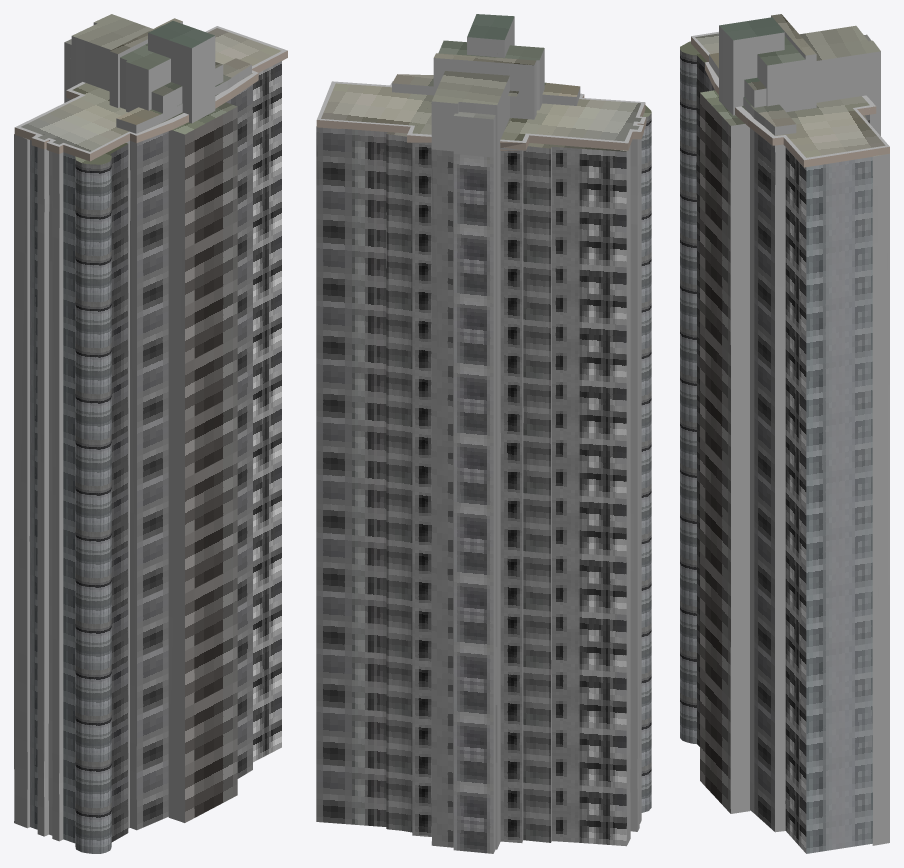
File: HPDPKZ_madanglu588nong6hao.dae
The picture shows the model from 3 angles, left to right: view 1: azimuth 30°, elevation 25°; view 2: azimuth 150°, elevation 25°; view 3: azimuth 270°, elevation 25°; orthographic projection.
Visible parts, largest first — view 1: HPDPKZ_madanglu588nong6hao_louding, HPDPKZ_madanglu588nong6hao_1F_101, HPDPKZ_madanglu588nong6hao_12F_1201, HPDPKZ_madanglu588nong6hao_2F_201, HPDPKZ_madanglu588nong6hao_5F_501, HPDPKZ_madanglu588nong6hao_20F_2001, HPDPKZ_madanglu588nong6hao_23F_2301, HPDPKZ_madanglu588nong6hao_6F_601, HPDPKZ_madanglu588nong6hao_9F_901, HPDPKZ_madanglu588nong6hao_21F_2101, HPDPKZ_madanglu588nong6hao_8F_801, HPDPKZ_madanglu588nong6hao_17F_1701 (+61 smaller); view 2: HPDPKZ_madanglu588nong6hao_louding, HPDPKZ_madanglu588nong6hao_26F_2601, HPDPKZ_madanglu588nong6hao_1F_101, HPDPKZ_madanglu588nong6hao_15F_1501, HPDPKZ_madanglu588nong6hao_25F_2501, HPDPKZ_madanglu588nong6hao_12F_1201, HPDPKZ_madanglu588nong6hao_13F_1301, HPDPKZ_madanglu588nong6hao_2F_201, HPDPKZ_madanglu588nong6hao_11F_1101, HPDPKZ_madanglu588nong6hao_6F_601, HPDPKZ_madanglu588nong6hao_9F_901, HPDPKZ_madanglu588nong6hao_10F_1001 (+61 smaller); view 3: HPDPKZ_madanglu588nong6hao_louding, HPDPKZ_madanglu588nong6hao_6F_603, HPDPKZ_madanglu588nong6hao_12F_1203, HPDPKZ_madanglu588nong6hao_16F_1603, HPDPKZ_madanglu588nong6hao_19F_1903, HPDPKZ_madanglu588nong6hao_2F_203, HPDPKZ_madanglu588nong6hao_22F_2203, HPDPKZ_madanglu588nong6hao_26F_2603, HPDPKZ_madanglu588nong6hao_9F_903, HPDPKZ_madanglu588nong6hao_11F_1103, HPDPKZ_madanglu588nong6hao_17F_1703, HPDPKZ_madanglu588nong6hao_23F_2303 (+61 smaller).
Boxes of the visible parts, x1,y1,x2,y2 form: HPDPKZ_madanglu588nong6hao_louding: (14, 14, 287, 164); HPDPKZ_madanglu588nong6hao_1F_101: (14, 788, 168, 853); HPDPKZ_madanglu588nong6hao_12F_1201: (14, 501, 168, 566); HPDPKZ_madanglu588nong6hao_2F_201: (14, 759, 168, 824); HPDPKZ_madanglu588nong6hao_5F_501: (14, 702, 168, 767); HPDPKZ_madanglu588nong6hao_20F_2001: (14, 300, 168, 365); HPDPKZ_madanglu588nong6hao_23F_2301: (14, 214, 168, 279); HPDPKZ_madanglu588nong6hao_6F_601: (14, 673, 168, 738); HPDPKZ_madanglu588nong6hao_9F_901: (14, 587, 168, 652); HPDPKZ_madanglu588nong6hao_21F_2101: (14, 271, 168, 336); HPDPKZ_madanglu588nong6hao_8F_801: (14, 616, 168, 681); HPDPKZ_madanglu588nong6hao_17F_1701: (14, 386, 168, 451); HPDPKZ_madanglu588nong6hao_louding: (316, 14, 651, 157); HPDPKZ_madanglu588nong6hao_26F_2601: (500, 142, 651, 209); HPDPKZ_madanglu588nong6hao_1F_101: (500, 778, 651, 846); HPDPKZ_madanglu588nong6hao_15F_1501: (500, 431, 651, 498); HPDPKZ_madanglu588nong6hao_25F_2501: (500, 171, 651, 238); HPDPKZ_madanglu588nong6hao_12F_1201: (500, 489, 651, 556); HPDPKZ_madanglu588nong6hao_13F_1301: (500, 460, 651, 527); HPDPKZ_madanglu588nong6hao_2F_201: (500, 749, 651, 817); HPDPKZ_madanglu588nong6hao_11F_1101: (500, 518, 651, 585); HPDPKZ_madanglu588nong6hao_6F_601: (500, 663, 651, 730); HPDPKZ_madanglu588nong6hao_9F_901: (500, 576, 651, 643); HPDPKZ_madanglu588nong6hao_10F_1001: (500, 547, 651, 614); HPDPKZ_madanglu588nong6hao_louding: (680, 14, 889, 167); HPDPKZ_madanglu588nong6hao_6F_603: (760, 676, 889, 739); HPDPKZ_madanglu588nong6hao_12F_1203: (760, 504, 889, 567); HPDPKZ_madanglu588nong6hao_16F_1603: (760, 418, 889, 481); HPDPKZ_madanglu588nong6hao_19F_1903: (760, 331, 889, 395); HPDPKZ_madanglu588nong6hao_2F_203: (760, 762, 889, 825); HPDPKZ_madanglu588nong6hao_22F_2203: (760, 245, 889, 309); HPDPKZ_madanglu588nong6hao_26F_2603: (760, 159, 889, 223); HPDPKZ_madanglu588nong6hao_9F_903: (760, 590, 889, 653); HPDPKZ_madanglu588nong6hao_11F_1103: (760, 532, 889, 595); HPDPKZ_madanglu588nong6hao_17F_1703: (760, 389, 889, 452); HPDPKZ_madanglu588nong6hao_23F_2303: (760, 217, 889, 280).
Bounding box in the file's own units: 38.32 × 98.7 × 24.59.
25 materials, 25 textured.
